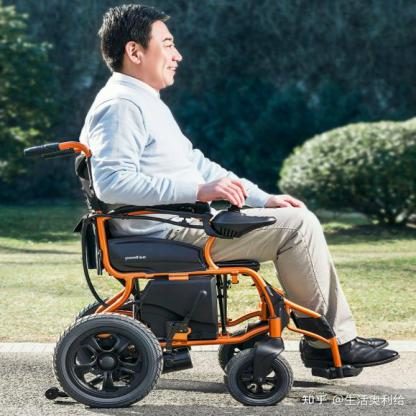wheelchair: (35, 0, 404, 415)
